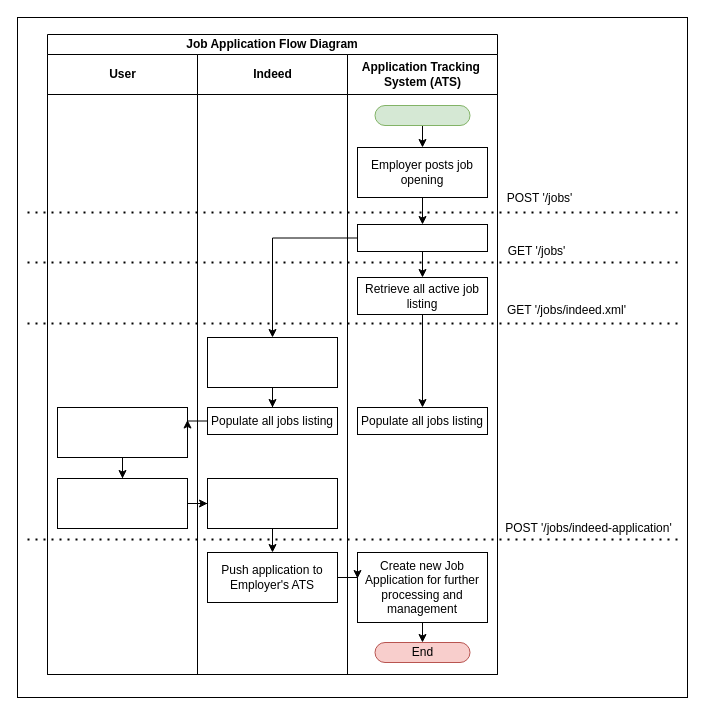
Some shapes in this 705 by 715 pixel diagram are drawn without their labels. The shapes that lost their labels are listed below. From the top down, each one's centre as x and y in pixels, then its label:
the point at 422,115: Start
the point at 422,238: New job created
the point at 272,362: Retrieve all active job listing in XML feed format
the point at 122,432: User browse job listing on Indeed
the point at 122,503: User click "Apply" on one of the jobs
the point at 272,503: Receive job application request
